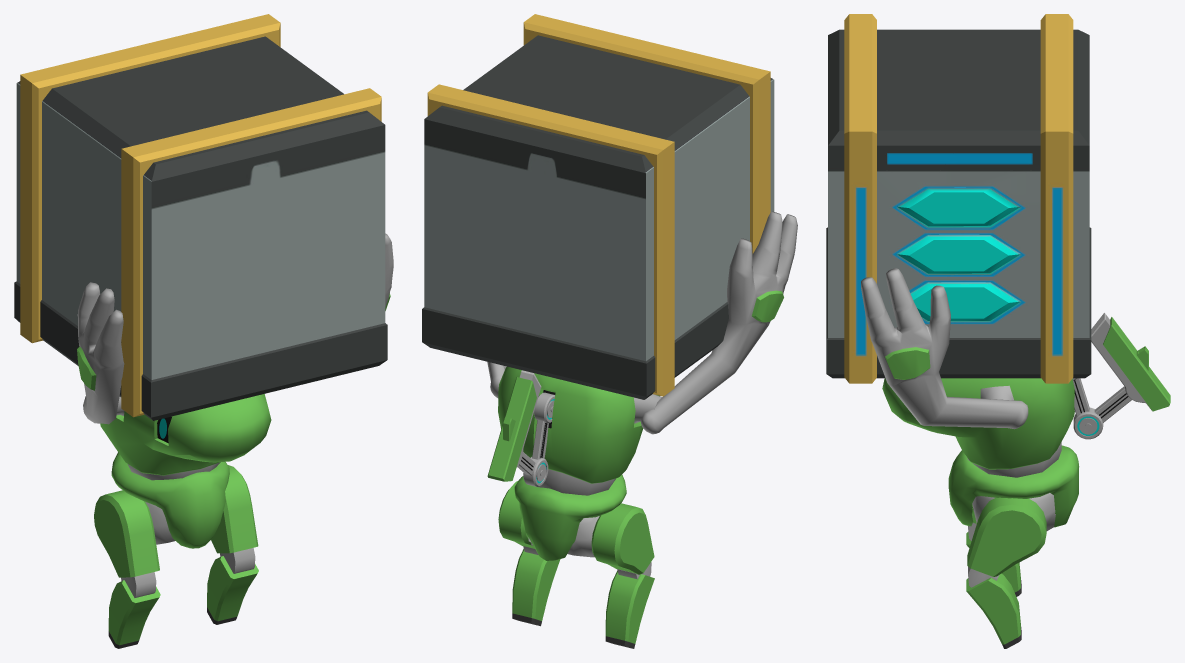
The model's file is Have_01.fbx.
3 views of the same model, side by side, from view 1: azimuth 30°, elevation 25°; view 2: azimuth 150°, elevation 25°; view 3: azimuth 270°, elevation 25° (orthographic). The views are drawn at different scales.
Parts seen in each view (by area): view 1: box1:pCube1, atama5, kosi4, L_ude7, L_asi15, L_asi18, L_asi16, L_asi17; view 2: box1:pCube1, atama5, L_ude7, kosi4, pCylinder34, L_asi15, L_asi16, L_asi17, L_asi18; view 3: box1:pCube1, L_ude8, atama5, kosi4, pCylinder34, L_asi18, L_asi17.
Boxes of the visible parts, box(x1,y1,x2,y2) form: box1:pCube1: box(14, 14, 387, 420); atama5: box(100, 394, 271, 480); kosi4: box(111, 452, 229, 548); L_ude7: box(77, 282, 124, 424); L_asi15: box(94, 490, 159, 597); L_asi18: box(211, 465, 258, 573); L_asi16: box(108, 580, 160, 648); L_asi17: box(207, 556, 258, 624); box1:pCube1: box(422, 14, 774, 399); atama5: box(498, 365, 661, 495); L_ude7: box(641, 211, 797, 434); kosi4: box(514, 474, 626, 560); pCylinder34: box(487, 370, 554, 486); L_asi15: box(591, 503, 654, 579); L_asi16: box(605, 571, 654, 648); L_asi17: box(512, 549, 560, 626); L_asi18: box(498, 481, 538, 554); box1:pCube1: box(826, 14, 1091, 383); L_ude8: box(861, 268, 1028, 429); atama5: box(882, 378, 1074, 477); kosi4: box(948, 445, 1079, 530); pCylinder34: box(1072, 313, 1170, 439); L_asi18: box(967, 497, 1046, 587); L_asi17: box(966, 573, 1021, 648).
Bounding box in the file's own units: 2.95 × 5.19 × 2.95.
